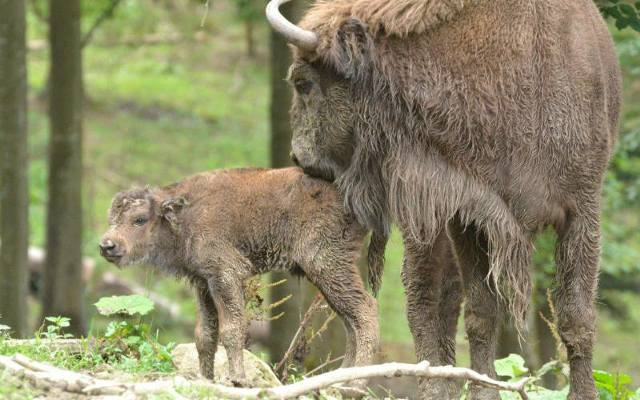zubr: (245, 1, 640, 381), (82, 140, 407, 400)
